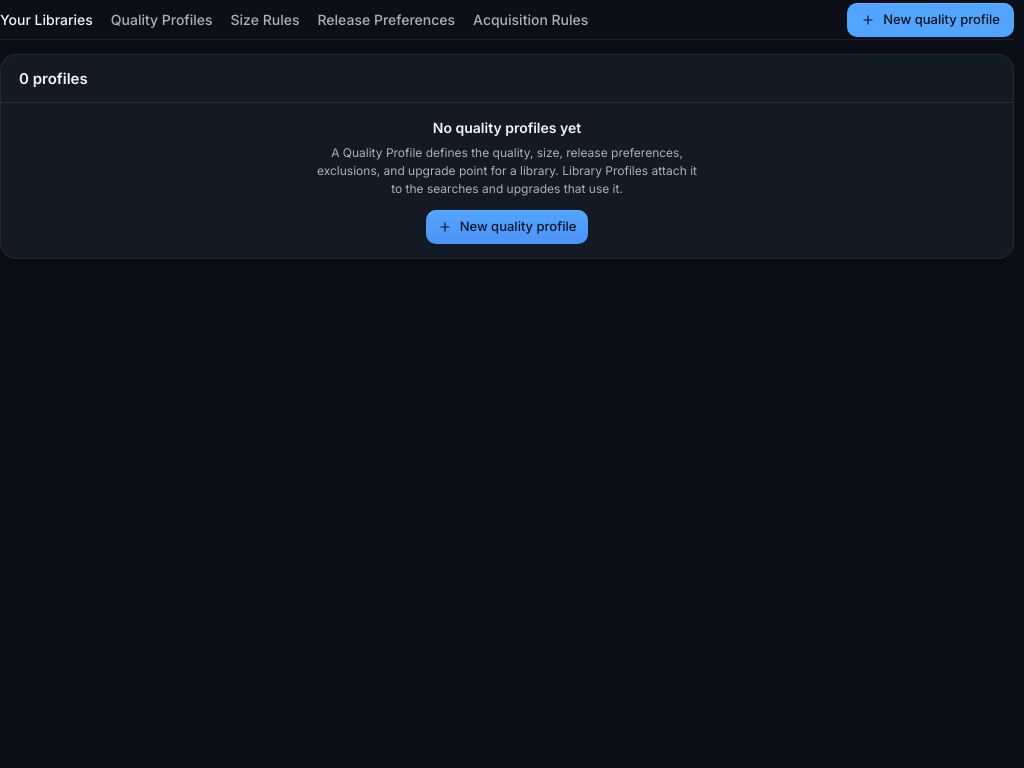
Scenario: quality profile plain choices (#938) › defaults the cutoff choice to the best available and the upgrade-gain choice to a little better
Step 1. Click the button "New quality profile" in the row of "Acquisition Rules" → (931, 20), box [847,2,1014,36]
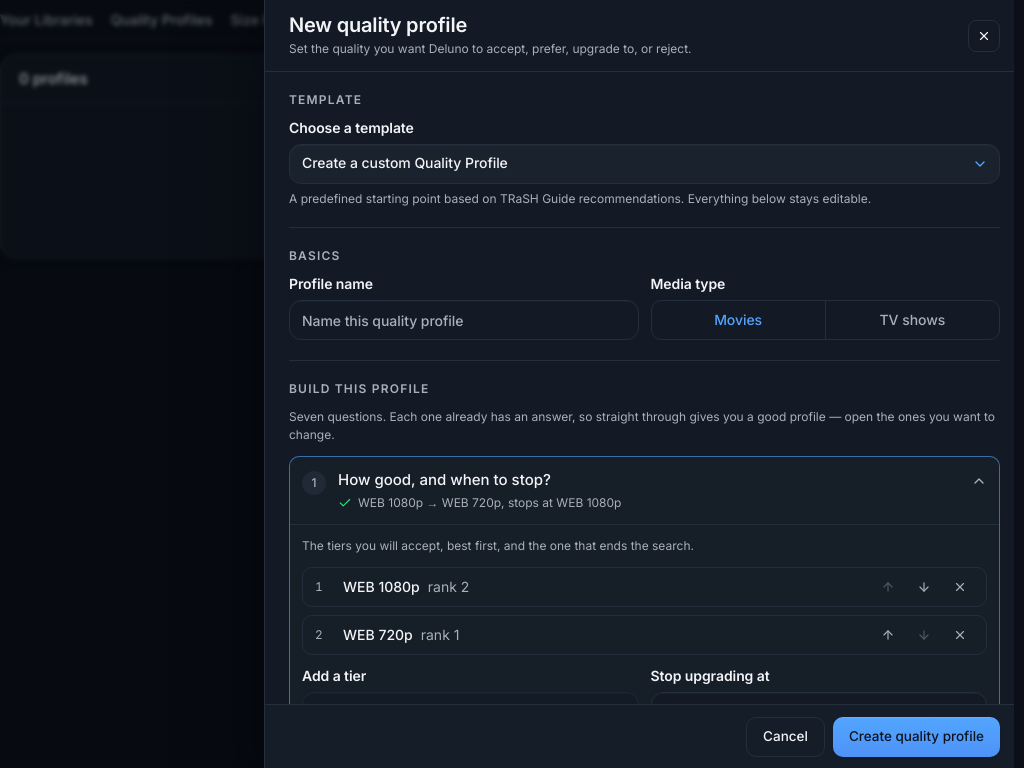
Check: the dialog is shown
